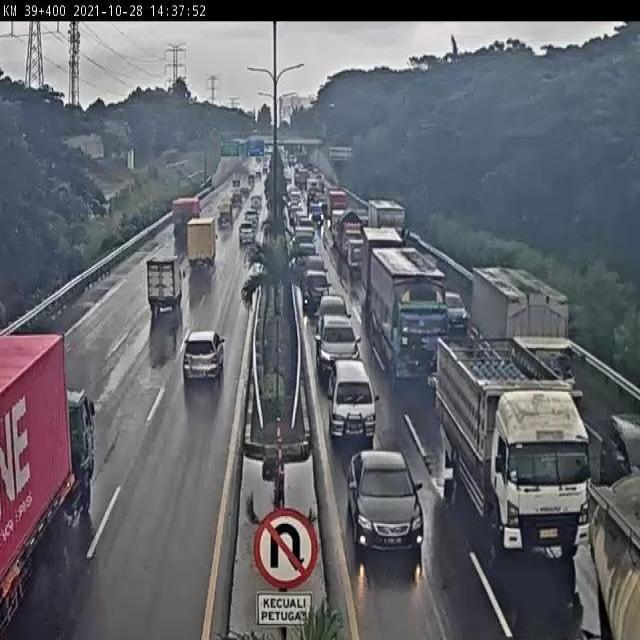truck-l-: (436, 332, 590, 559), (472, 270, 571, 414), (366, 246, 443, 382), (172, 195, 204, 236)
truck-m-: (144, 258, 184, 310)
truck-s-: (184, 220, 220, 273)
